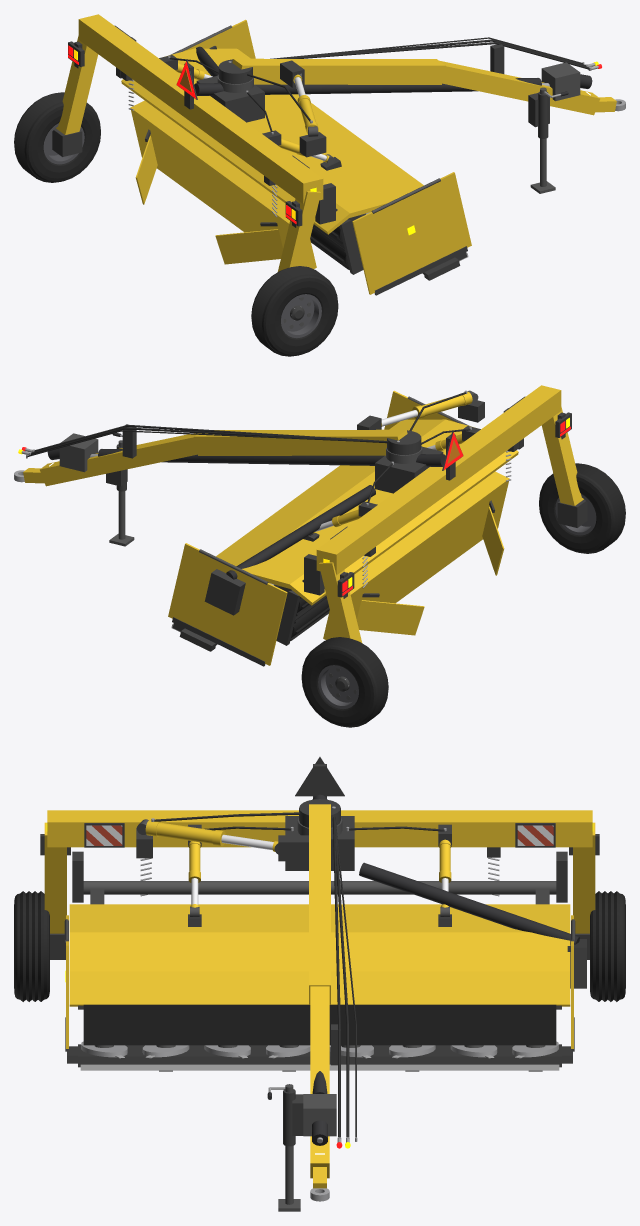
Rendered from mower_conditioner.glb.
The picture shows the model from 3 angles, top to bottom: view 1: azimuth 30°, elevation 25°; view 2: azimuth 150°, elevation 25°; view 3: azimuth 270°, elevation 25°; orthographic projection. The views are drawn at different scales.
Parts seen in each view (by area): view 1: header_tilt, frame, drawbar_rotate, side_guard_right_tilt, wheel_right_spin, wheel_left_spin, side_guard_left_tilt, drawbar_swing_cylinder_rotate; view 2: header_tilt, frame, drawbar_rotate, side_guard_left_tilt, wheel_left_spin, wheel_right_spin, side_guard_right_tilt, drawbar_swing_cylinder_rotate; view 3: header_tilt, frame, drawbar_rotate, wheel_right_spin, wheel_left_spin, drawbar_swing_cylinder_rotate.
Part boxes in pixels (<box>): header_tilt: <box>121,46,468,280</box>; frame: <box>52,14,335,271</box>; drawbar_rotate: <box>194,37,625,193</box>; side_guard_right_tilt: <box>352,172,471,295</box>; wheel_right_spin: <box>251,266,338,356</box>; wheel_left_spin: <box>14,92,100,182</box>; side_guard_left_tilt: <box>170,19,255,58</box>; drawbar_swing_cylinder_rotate: <box>297,95,318,136</box>; header_tilt: <box>171,419,518,651</box>; frame: <box>304,385,587,642</box>; drawbar_rotate: <box>14,415,445,546</box>; side_guard_left_tilt: <box>168,543,287,666</box>; wheel_left_spin: <box>301,637,388,727</box>; wheel_right_spin: <box>539,463,625,553</box>; side_guard_right_tilt: <box>384,390,469,429</box>; drawbar_swing_cylinder_rotate: <box>412,390,478,418</box>; header_tilt: <box>67,862,586,1071</box>; frame: <box>40,757,599,959</box>; drawbar_rotate: <box>267,794,357,1211</box>; wheel_right_spin: <box>14,891,49,1001</box>; wheel_left_spin: <box>590,891,625,1001</box>; drawbar_swing_cylinder_rotate: <box>137,819,225,846</box>.
Size of the model in its own units: 4.92 by 1.96 by 4.4.
17 materials, 17 textured.
